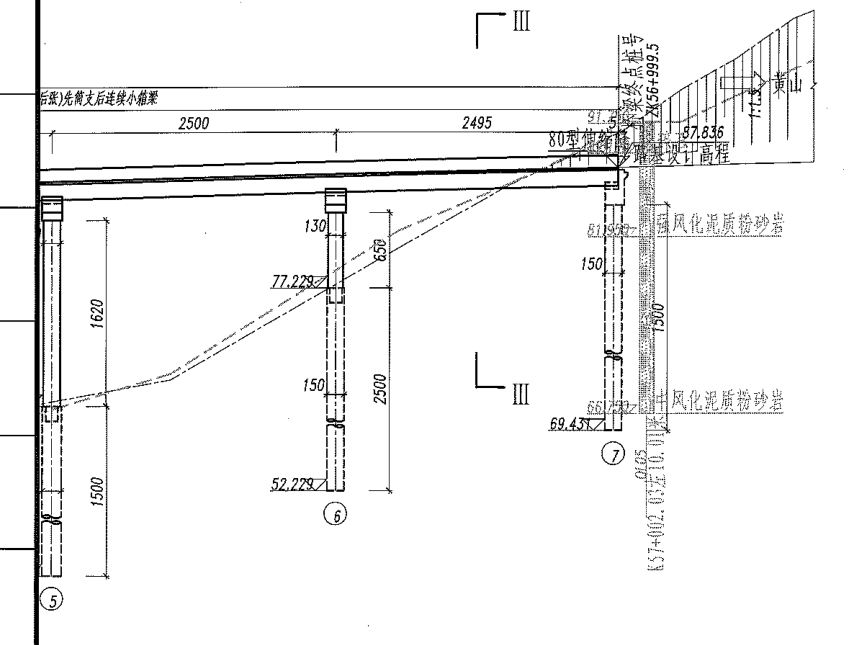C: (263, 179, 363, 537), (546, 165, 641, 471), (259, 182, 353, 431), (43, 188, 79, 614)
